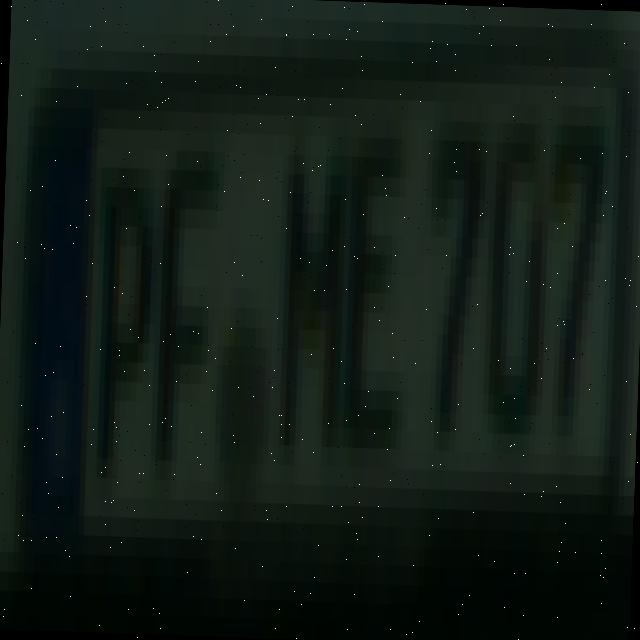Autre: (17, 59, 621, 541)
